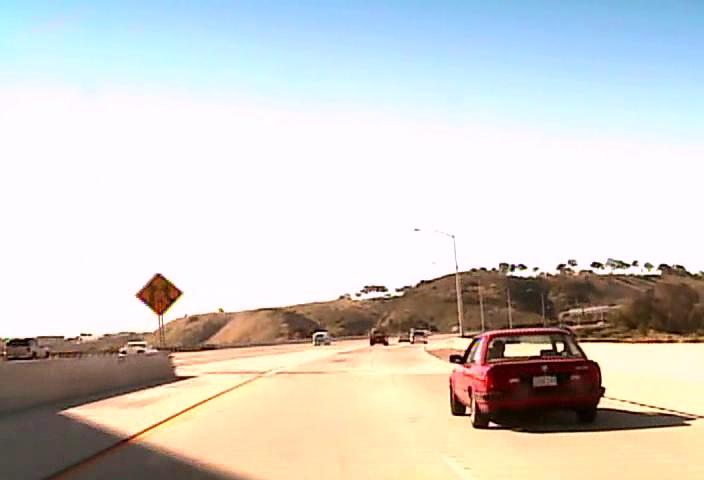addedLane: (135, 272, 183, 315)
